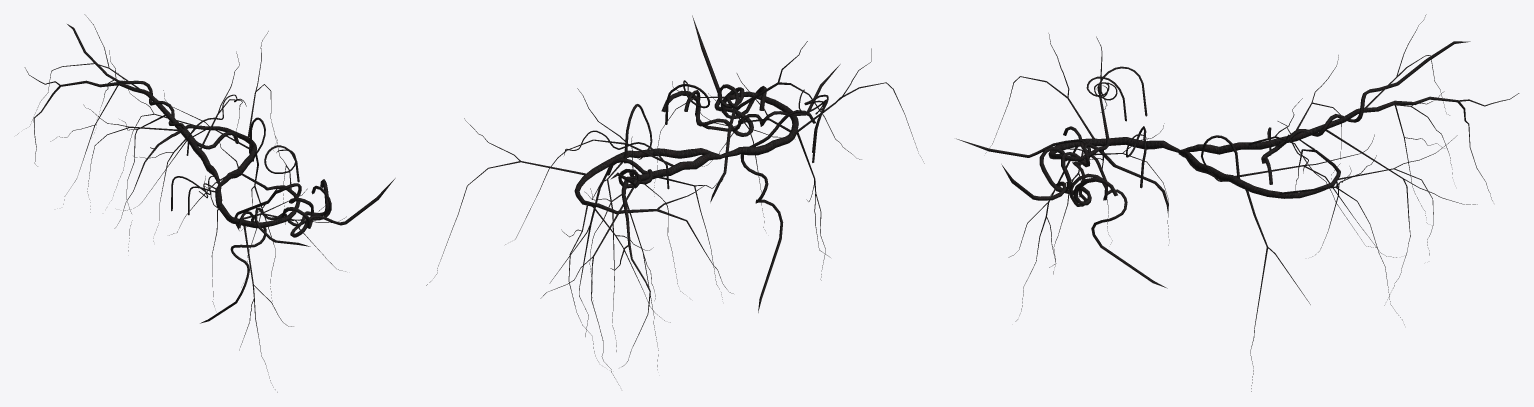
File: Bush 2.fbx
3 renders of one model, left to right at view 1: azimuth 30°, elevation 25°; view 2: azimuth 150°, elevation 25°; view 3: azimuth 270°, elevation 25°, orthographic. The views are drawn at different scales.
Visible parts, largest first — view 1: LOD0; view 2: LOD0; view 3: LOD0.
Part boxes in pixels (x1,y1,x2,y2): LOD0: (17, 14, 395, 392); LOD0: (426, 15, 924, 385); LOD0: (956, 14, 1519, 391).
Size of the model in its own units: 394 by 413 by 676.
Materials: 1 (1 with a texture image).
